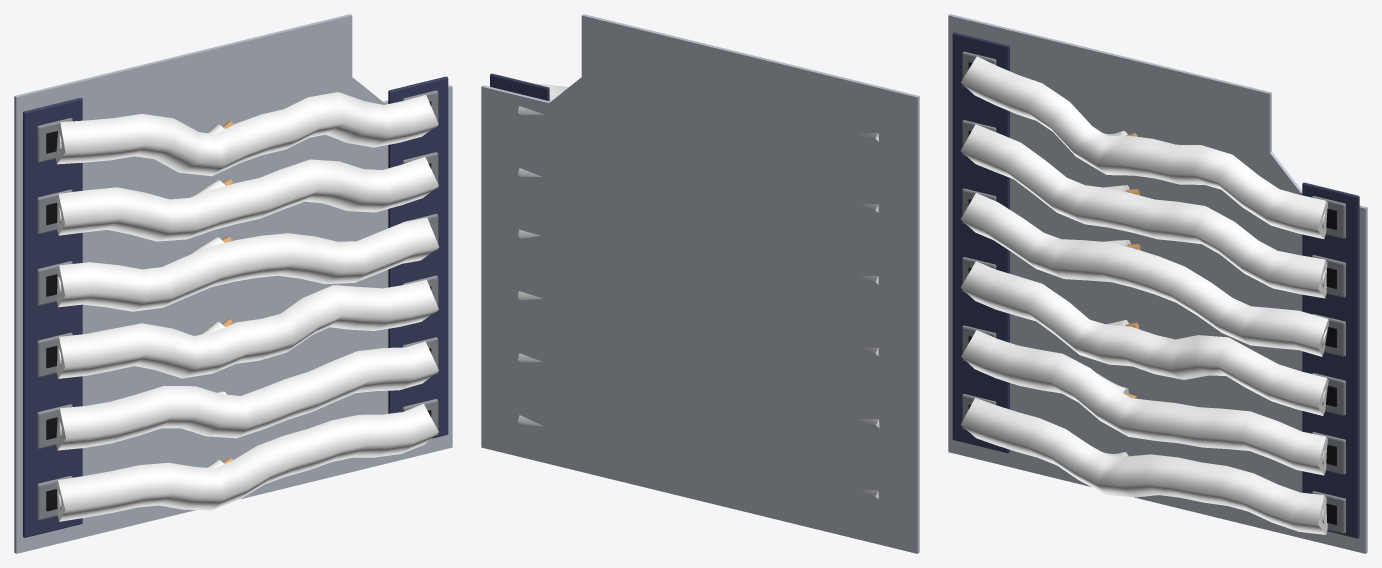
File: wires_module.glb
The picture shows the model from 3 angles, left to right: view 1: azimuth 30°, elevation 25°; view 2: azimuth 150°, elevation 25°; view 3: azimuth 330°, elevation 25°; orthographic projection. The views are drawn at different scales.
Visible parts, largest first — view 1: wires_plate, hit_wire_0, hit_wire_3, hit_wire_4, hit_wire_1, hit_wire_2, hit_wire_5, wires_strip_left, wires_strip_right, wires_socket_l2, wires_socket_l3, wires_socket_l0 (+3 smaller); view 2: wires_plate, wires_strip_right; view 3: wires_plate, hit_wire_0, hit_wire_3, hit_wire_5, hit_wire_4, hit_wire_1, hit_wire_2, wires_strip_left, wires_strip_right, wires_socket_r5, wires_socket_r1, wires_socket_r3 (+3 smaller).
Part boxes in pixels (left/top/right/bottom): wires_plate: left=14, top=14, right=452, bottom=553; hit_wire_0: left=55, top=92, right=438, bottom=176; hit_wire_3: left=56, top=279, right=438, bottom=378; hit_wire_4: left=56, top=341, right=438, bottom=450; hit_wire_1: left=57, top=157, right=438, bottom=241; hit_wire_2: left=56, top=217, right=438, bottom=311; hit_wire_5: left=56, top=404, right=438, bottom=521; wires_strip_left: left=23, top=98, right=82, bottom=537; wires_strip_right: left=388, top=76, right=448, bottom=438; wires_socket_l2: left=37, top=261, right=72, bottom=305; wires_socket_l3: left=37, top=332, right=72, bottom=377; wires_socket_l0: left=37, top=118, right=72, bottom=162; wires_plate: left=481, top=14, right=919, bottom=553; wires_strip_right: left=490, top=73, right=549, bottom=101; wires_plate: left=948, top=14, right=1367, bottom=553; hit_wire_0: left=961, top=56, right=1327, bottom=238; hit_wire_3: left=960, top=261, right=1328, bottom=415; hit_wire_5: left=960, top=398, right=1327, bottom=534; hit_wire_4: left=961, top=330, right=1327, bottom=475; hit_wire_1: left=960, top=124, right=1327, bottom=298; hit_wire_2: left=960, top=193, right=1329, bottom=356; wires_strip_left: left=952, top=32, right=1009, bottom=453; wires_strip_right: left=1302, top=182, right=1359, bottom=538; wires_socket_r5: left=1311, top=491, right=1345, bottom=533; wires_socket_r1: left=1312, top=255, right=1345, bottom=297; wires_socket_r3: left=1312, top=373, right=1345, bottom=415.
Bounding box in the file's own units: 0.74 × 0.74 × 0.0953.
